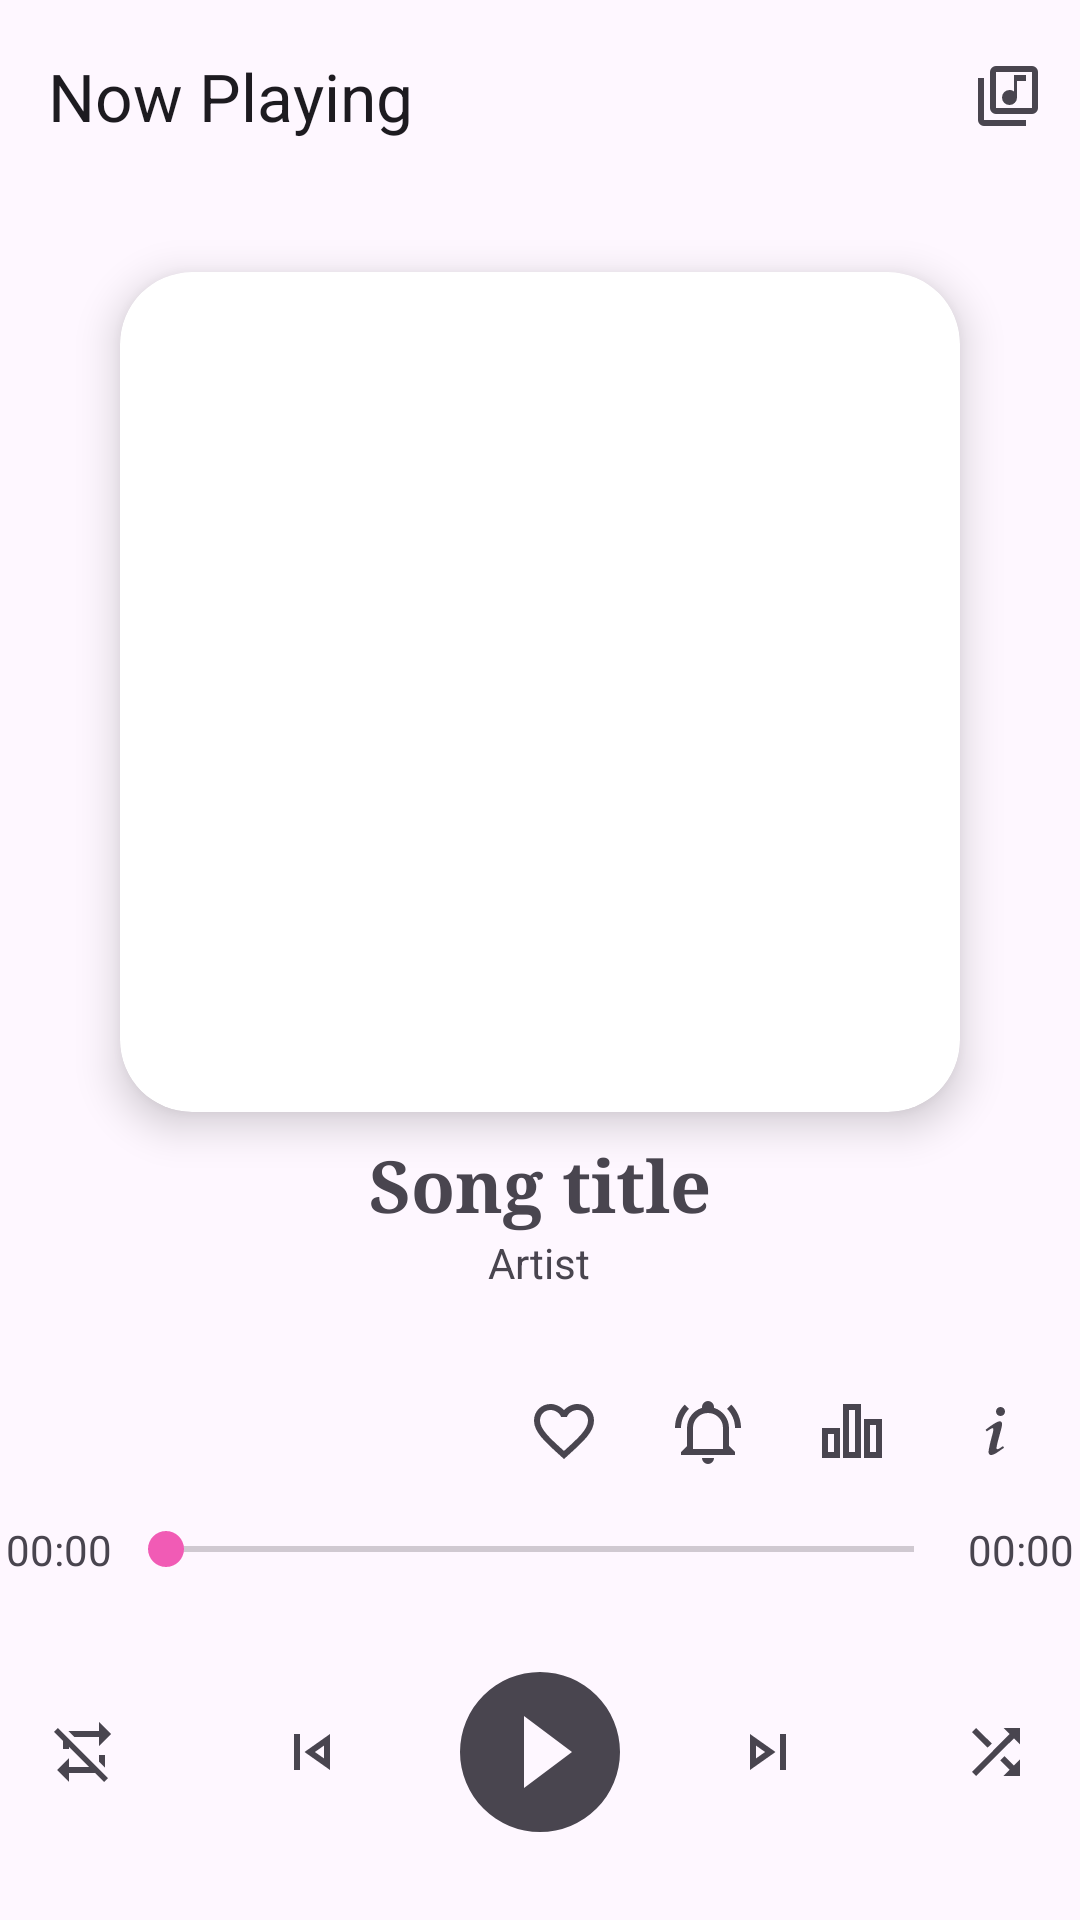

Where to tap for icons on this 1080×1920 app screen, as point (x, y):
bell ring: point (708, 1432)
equalizer: point (852, 1431)
heart: point (564, 1431)
information variant: point (995, 1431)
play circle: point (540, 1752)
repeat off: point (82, 1752)
skip next: point (768, 1752)
skip previous: point (312, 1752)
